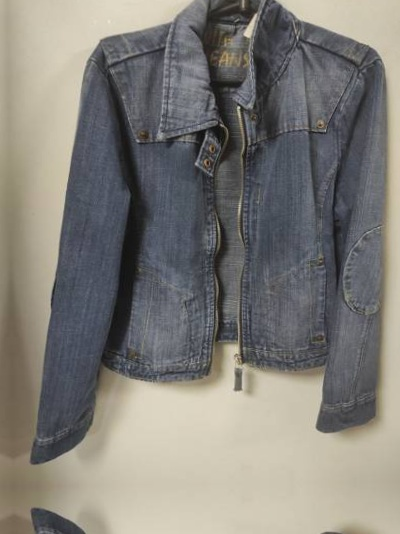Blazer: (32, 3, 400, 448), (39, 520, 400, 534)
